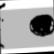correct: (27, 13, 54, 39)
